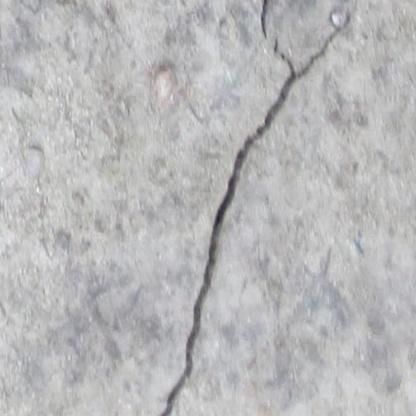Cracks: (139, 0, 358, 416)
